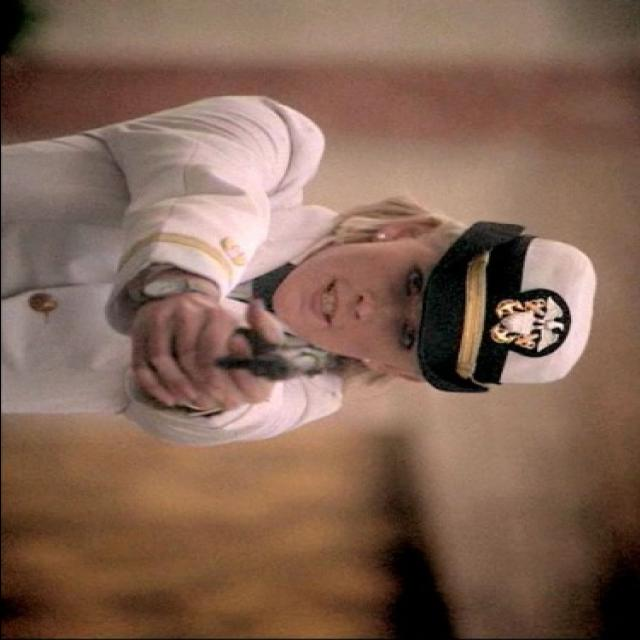weapons: (154, 316, 343, 392)
